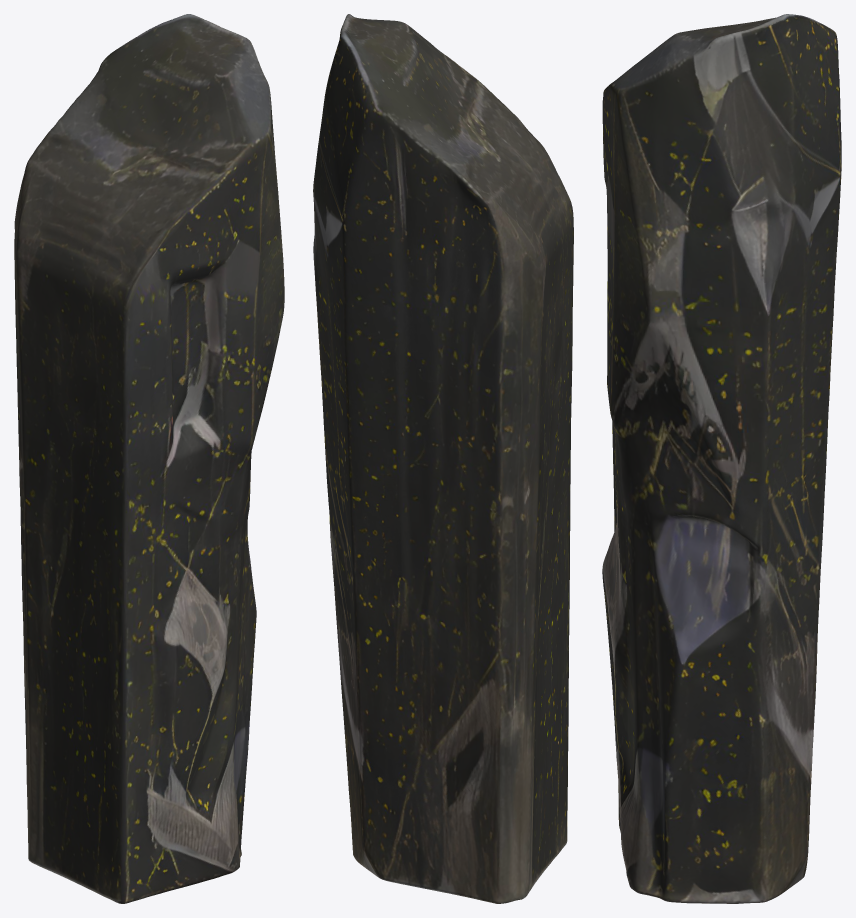
3 views of the same model, side by side, from view 1: azimuth 30°, elevation 25°; view 2: azimuth 150°, elevation 25°; view 3: azimuth 270°, elevation 25° (orthographic). The views are drawn at different scales.
Parts seen in each view (by area): view 1: tripo_node_3404f5c7-a29b-4ae9-8658-d96e0e7888d7; view 2: tripo_node_3404f5c7-a29b-4ae9-8658-d96e0e7888d7; view 3: tripo_node_3404f5c7-a29b-4ae9-8658-d96e0e7888d7.
Boxes of the visible parts, left/top/right/bottom form: tripo_node_3404f5c7-a29b-4ae9-8658-d96e0e7888d7: left=14, top=14, right=284, bottom=903; tripo_node_3404f5c7-a29b-4ae9-8658-d96e0e7888d7: left=313, top=14, right=573, bottom=903; tripo_node_3404f5c7-a29b-4ae9-8658-d96e0e7888d7: left=602, top=14, right=841, bottom=903.
Bounding box in the file's own units: 0.2788 × 0.9494 × 0.2315.
Materials: 1 (1 with a texture image).
